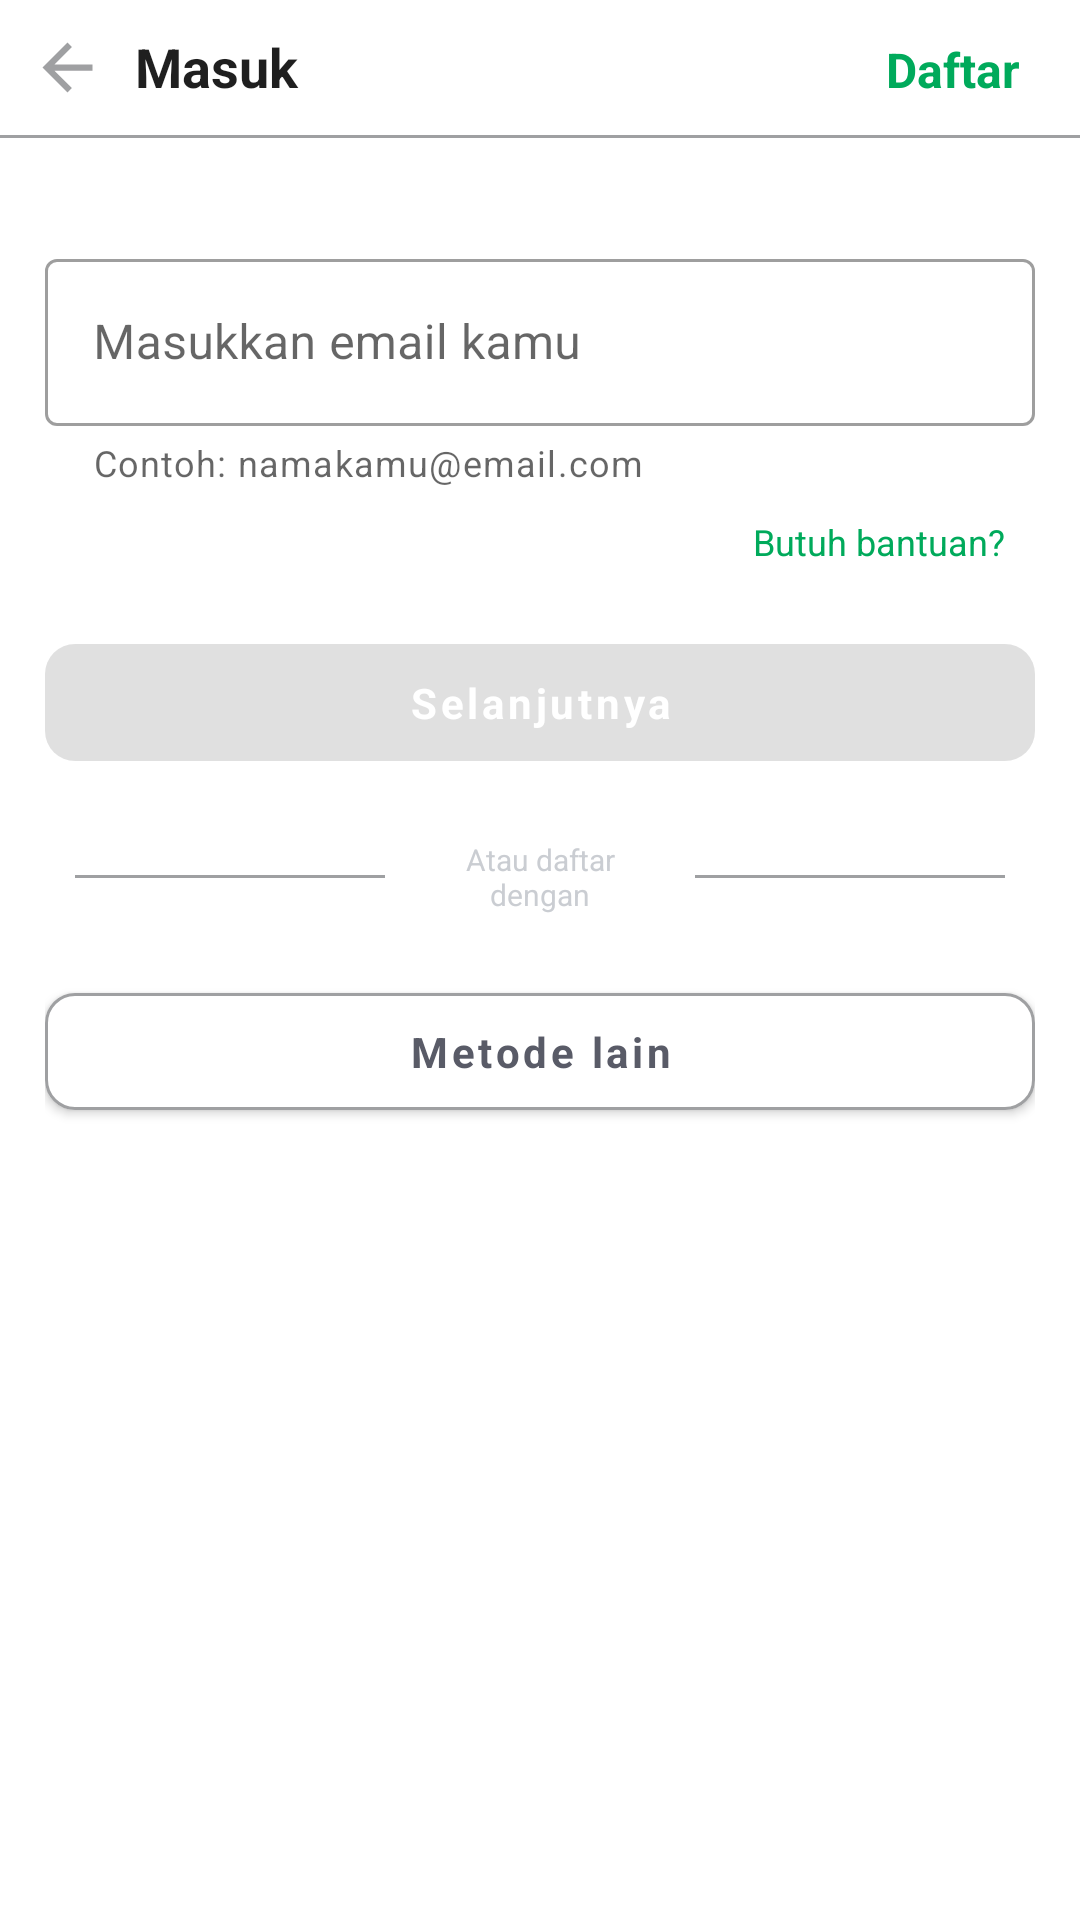

Icons on this 1080*1920 Android screen, each with its box as [x1, y1, x2, y2]:
back: [43, 43, 93, 92]
